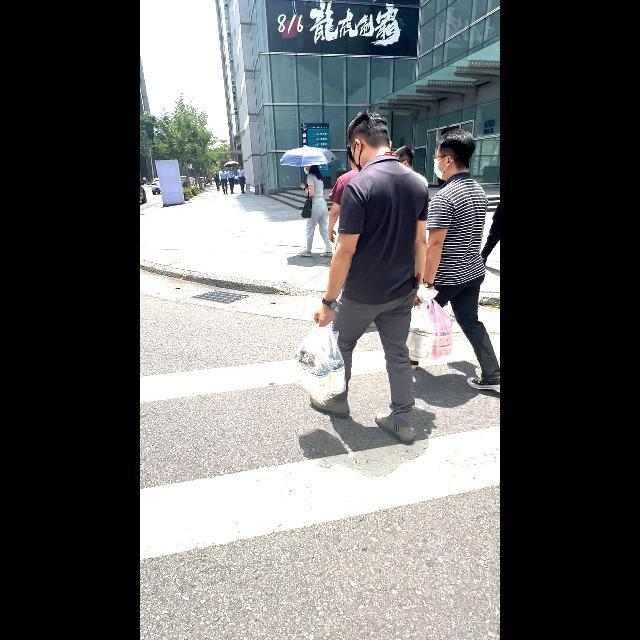sidewalk: (140, 264, 499, 640)
